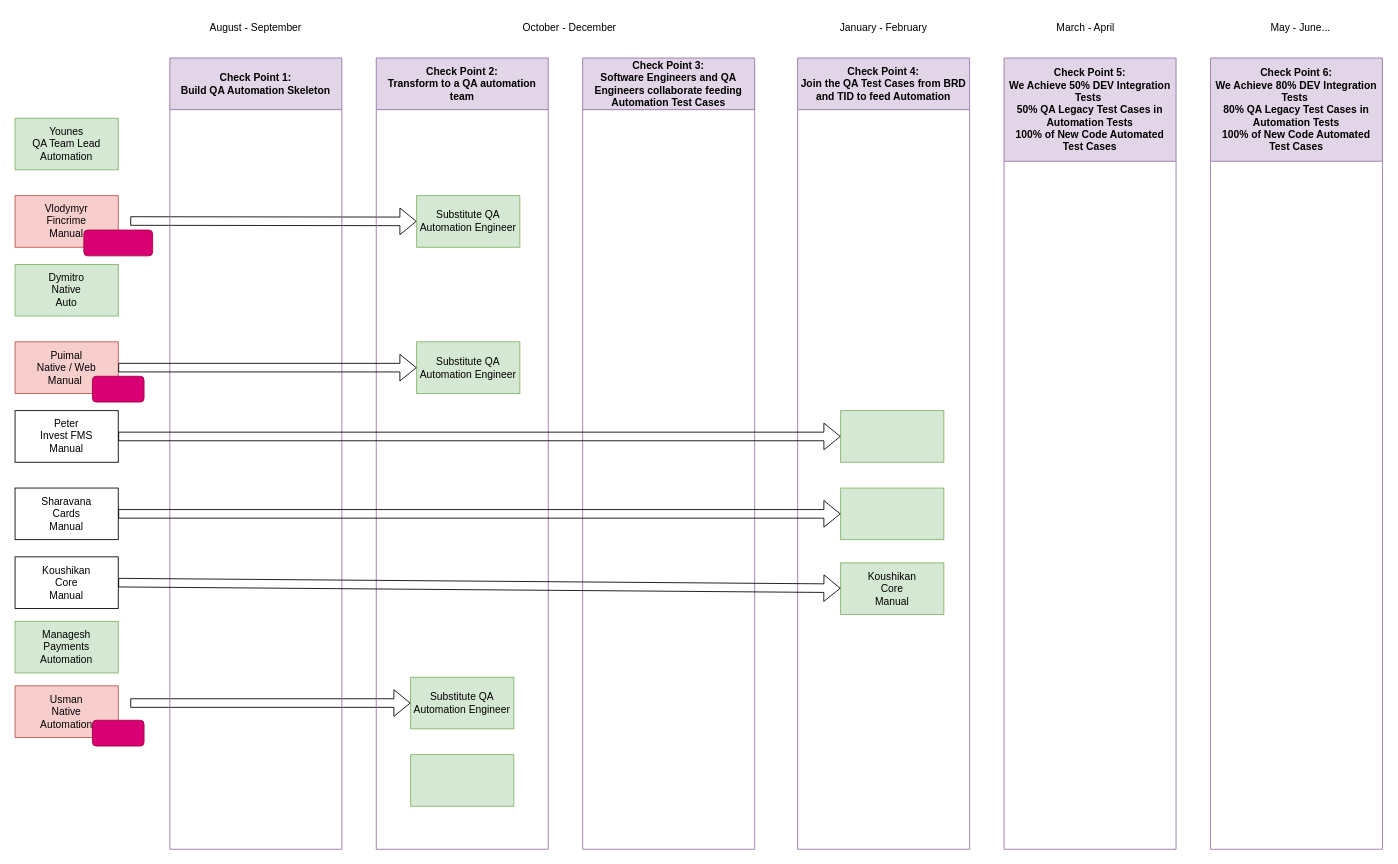
The diagram is 1398 pixels wide and 864 high, and some of its shapes have lost their labels. Here are the shapes that lost their labels. From the top down, the centre of each, then its label:
[118,242]: Contract not renewed
[118,388]: To Terminate
[892,436]: Peter Invest FMS Automation
[892,513]: Sharavana Cards Automation
[118,732]: Resigned
[462,780]: Armen Web Automation
